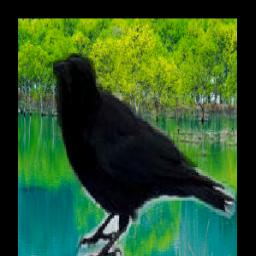Crow: (54, 53, 236, 256)
